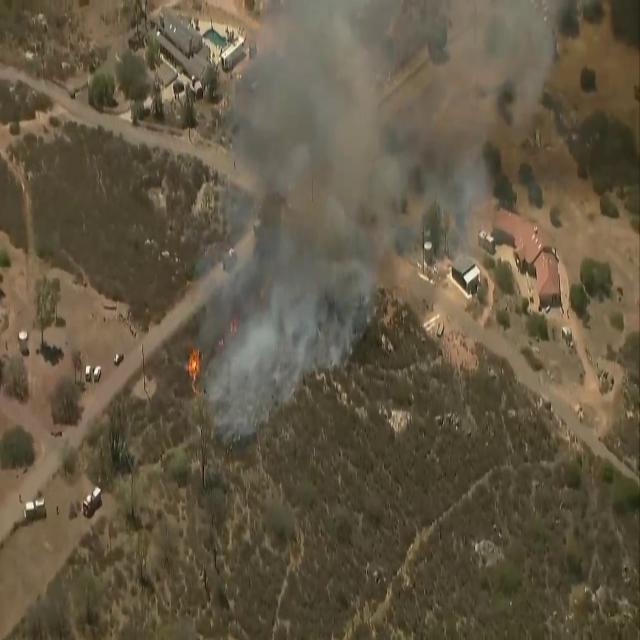Fire: (184, 337, 203, 388)
Smoke: (202, 1, 566, 401)
